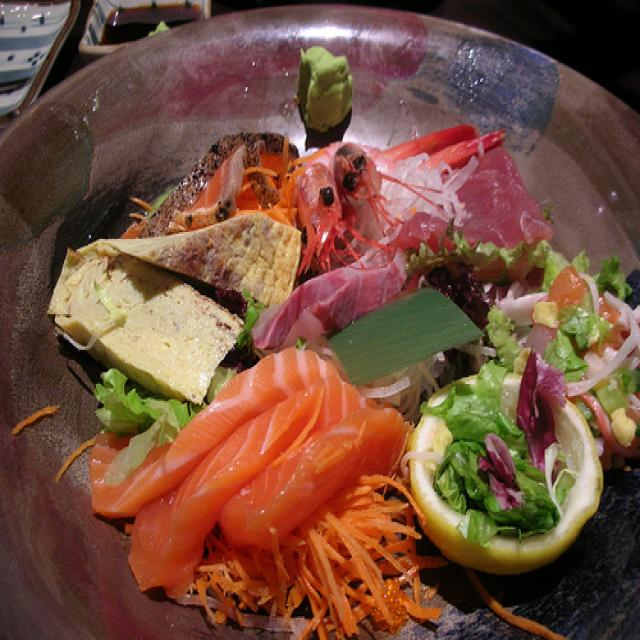刺身生食: (33, 61, 640, 640)
